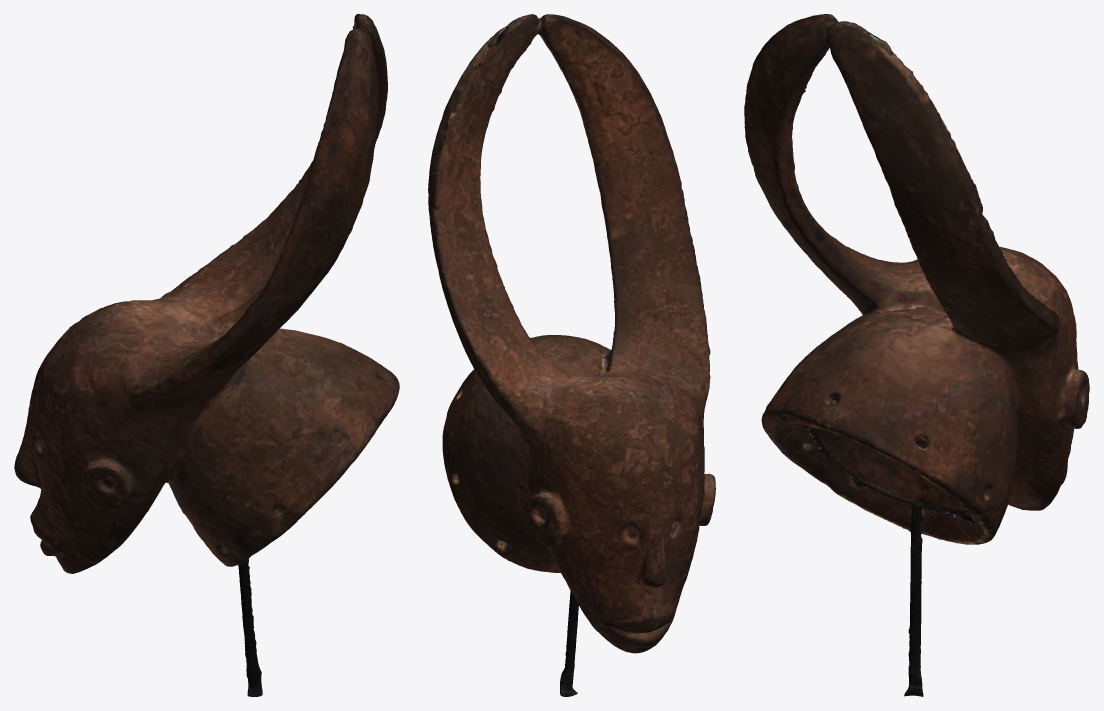
Rendered from preview.glb.
3 views of the same model, side by side, from view 1: azimuth 30°, elevation 25°; view 2: azimuth 150°, elevation 25°; view 3: azimuth 270°, elevation 25° (orthographic). The views are drawn at different scales.
Parts seen in each view (by area): view 1: Object_2; view 2: Object_2; view 3: Object_2.
Boxes of the visible parts, <box> form: Object_2: <box>14,14,399,696</box>; Object_2: <box>428,14,715,696</box>; Object_2: <box>744,14,1089,696</box>.
Size of the model in its own units: 296 by 649 by 285.
1 material, 1 textured.
